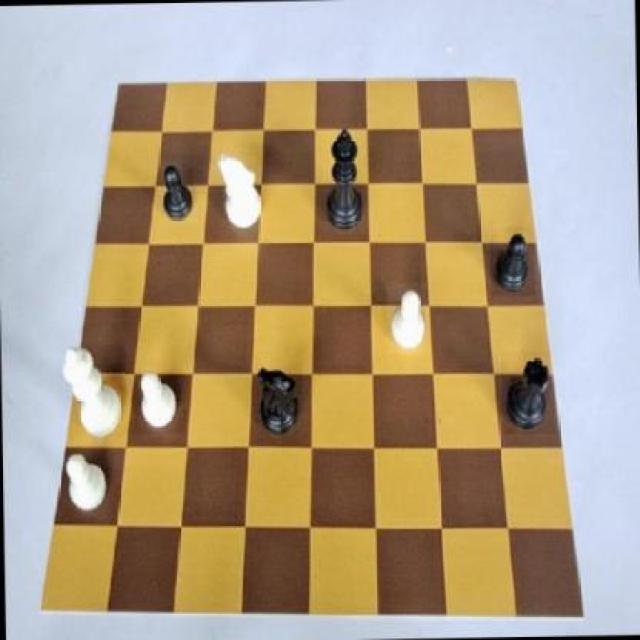black-bishop: (322, 122, 366, 235)
black-king: (256, 363, 304, 445)
black-knight: (491, 226, 535, 296), (158, 160, 198, 225)
black-queen: (502, 351, 556, 434)
white-bishop: (57, 344, 126, 438)
white-king: (214, 149, 266, 234)
white-knight: (132, 370, 186, 434), (386, 283, 431, 356), (65, 452, 112, 512)
